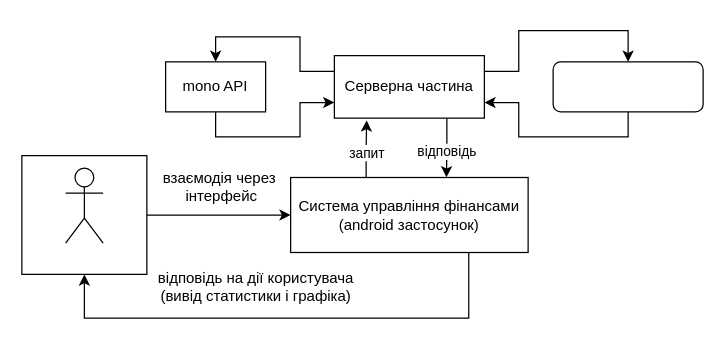
Image size: 725x350. Some labels were removed from this diagram. The shapes that lost their labels are listed below. From the top down, each one's box as (x1, y1, x2, y2) in pixels, then its label:
(552, 61, 703, 112): База Даних
(64, 167, 103, 243): Користувач
